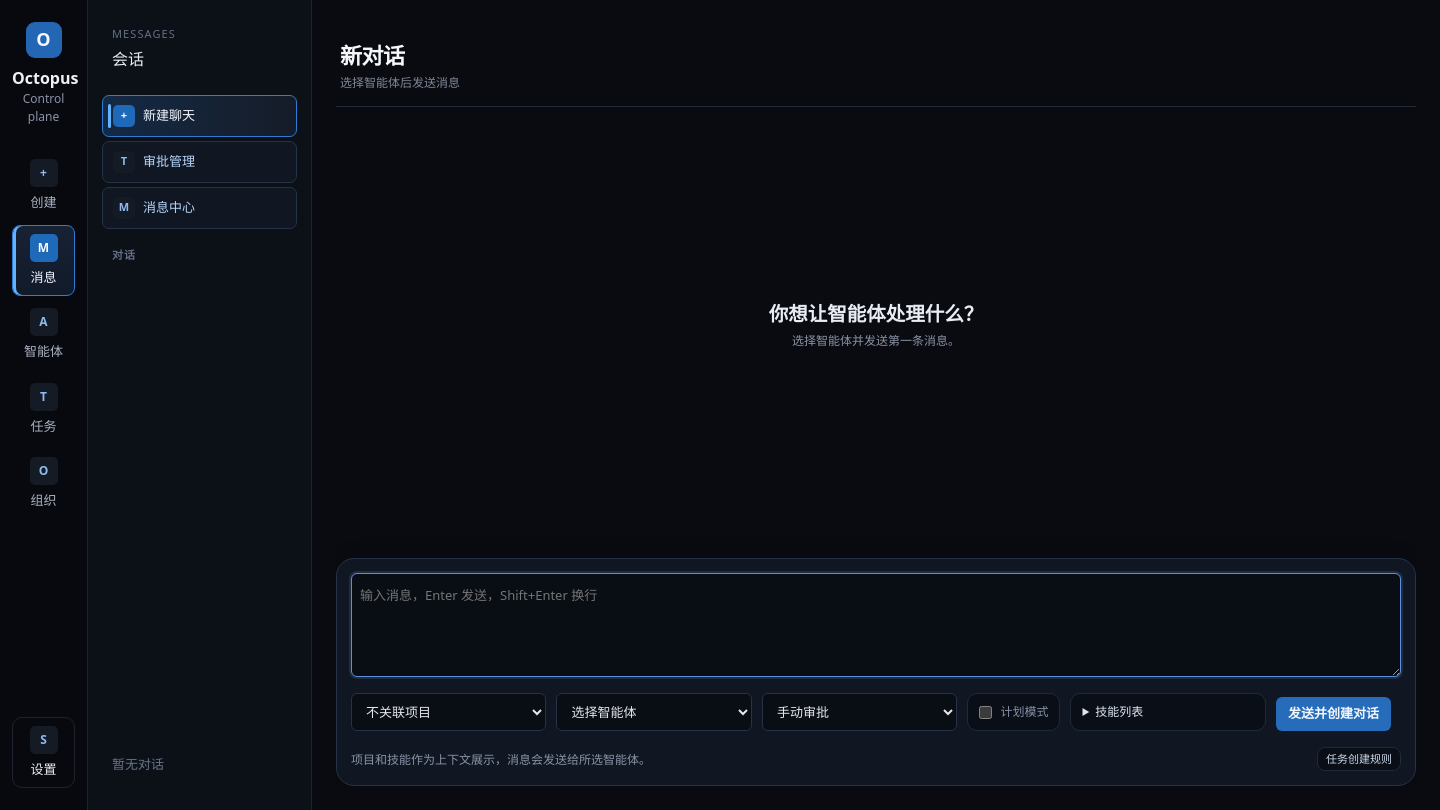
shows the first user message immediately after creating a conversation
Select "Builder (工程)" in the dropdown named "对话智能体" at [654, 712], box [556,693,752,731]
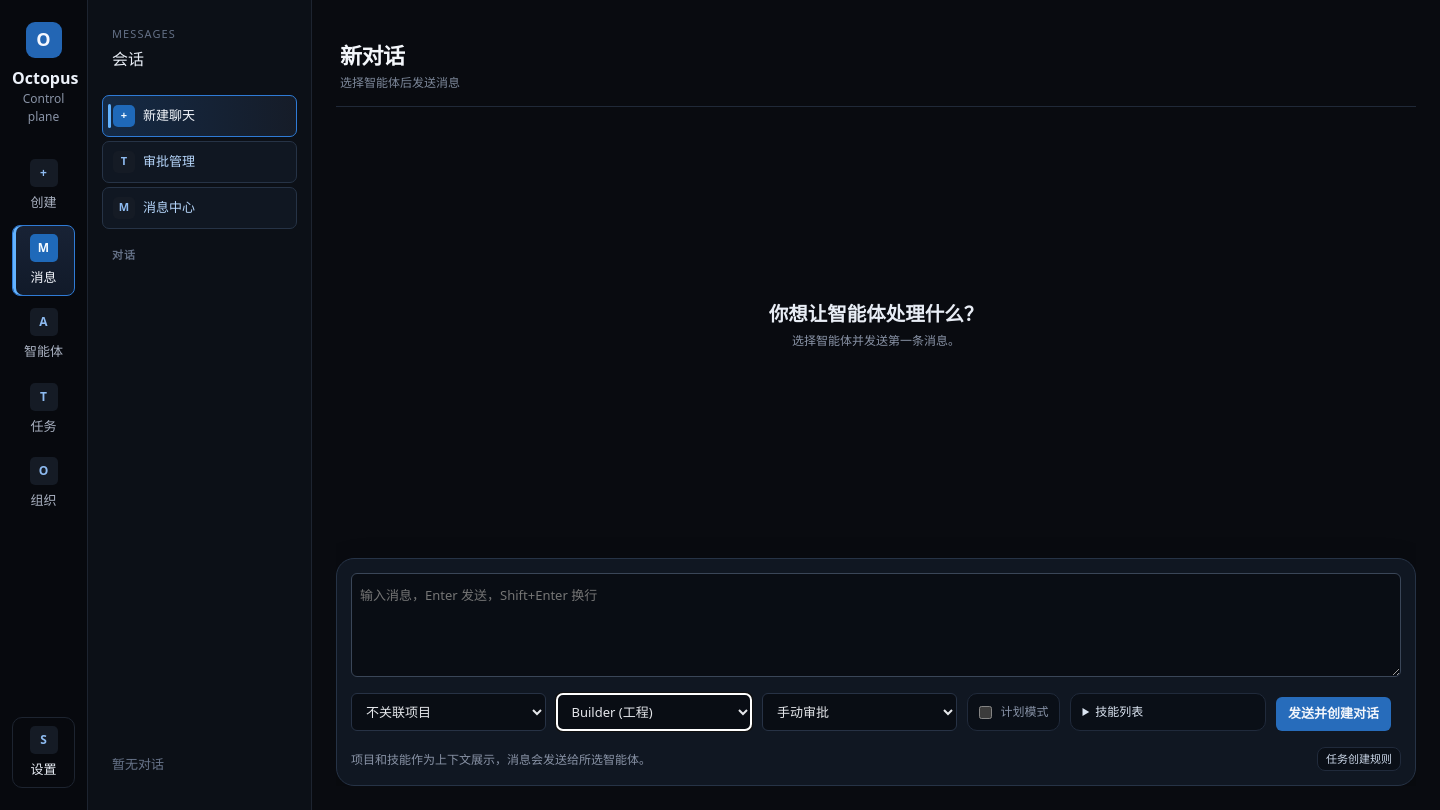
Type "你好" into the text box named "消息输入" at [876, 625], box [351,573,1401,677]
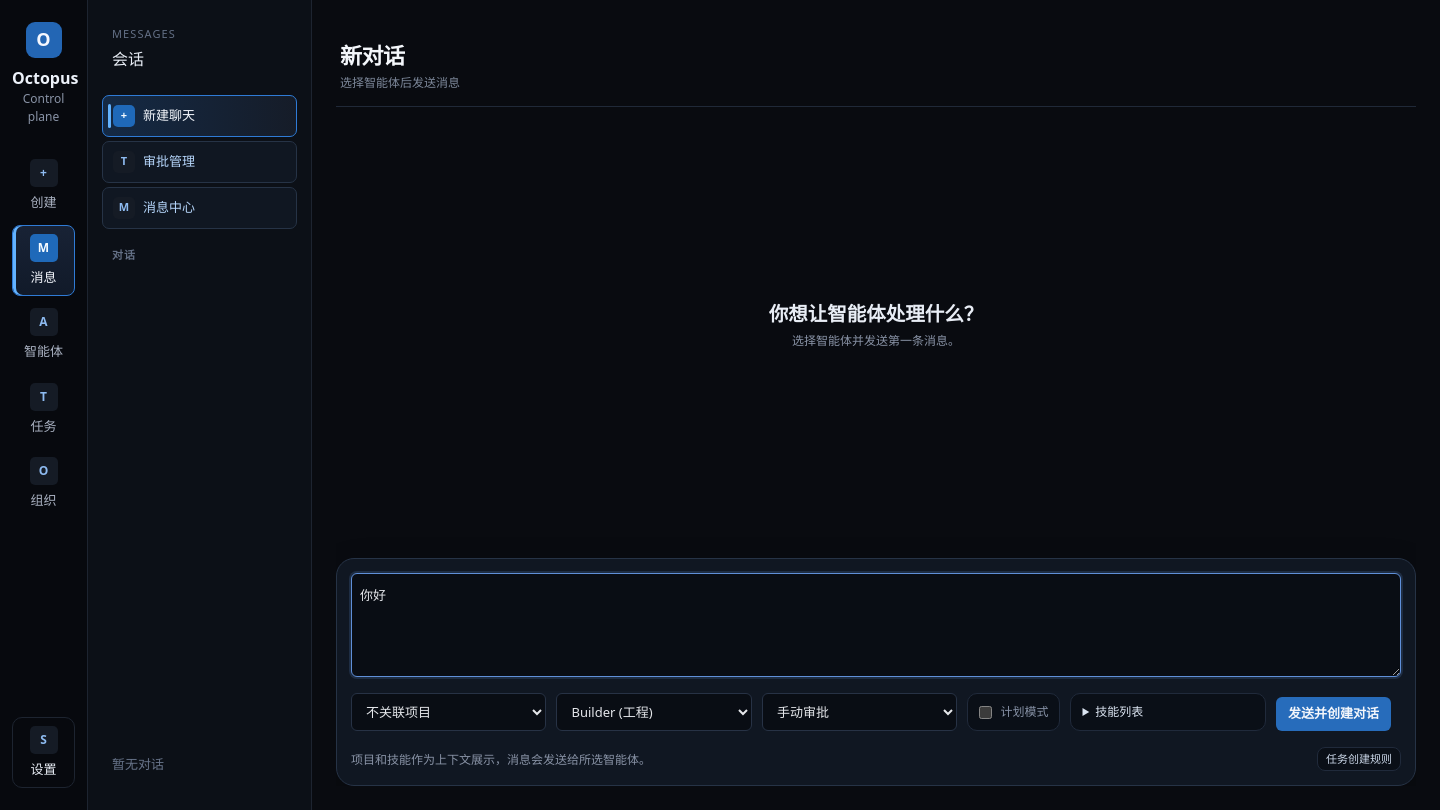
Click the button "发送并创建对话" at [1334, 714], box [1276,697,1391,731]
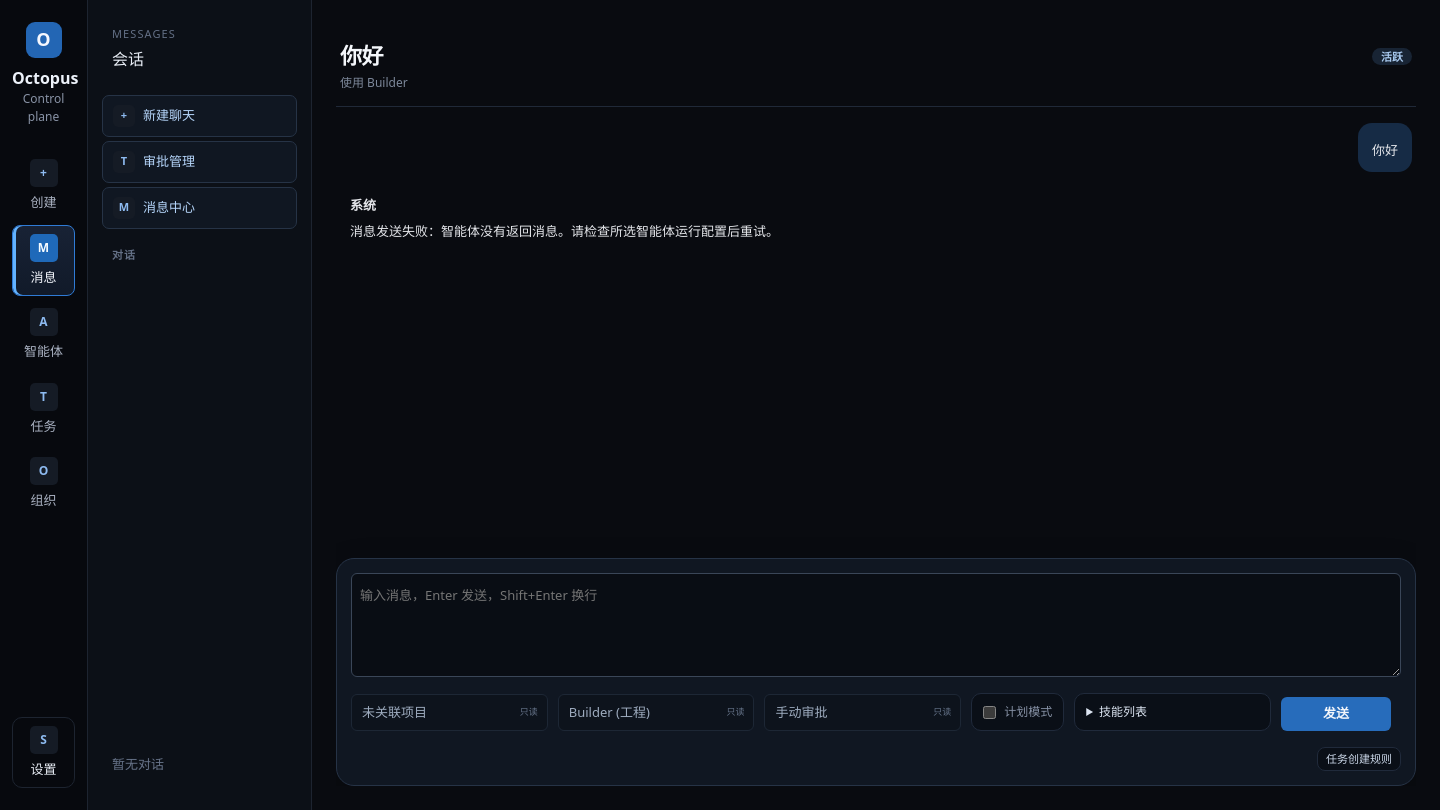
Expected: the heading "你好" is shown, [340,40,383,70]
Expected: the text "你好" is shown once, [1372,140,1398,160]
